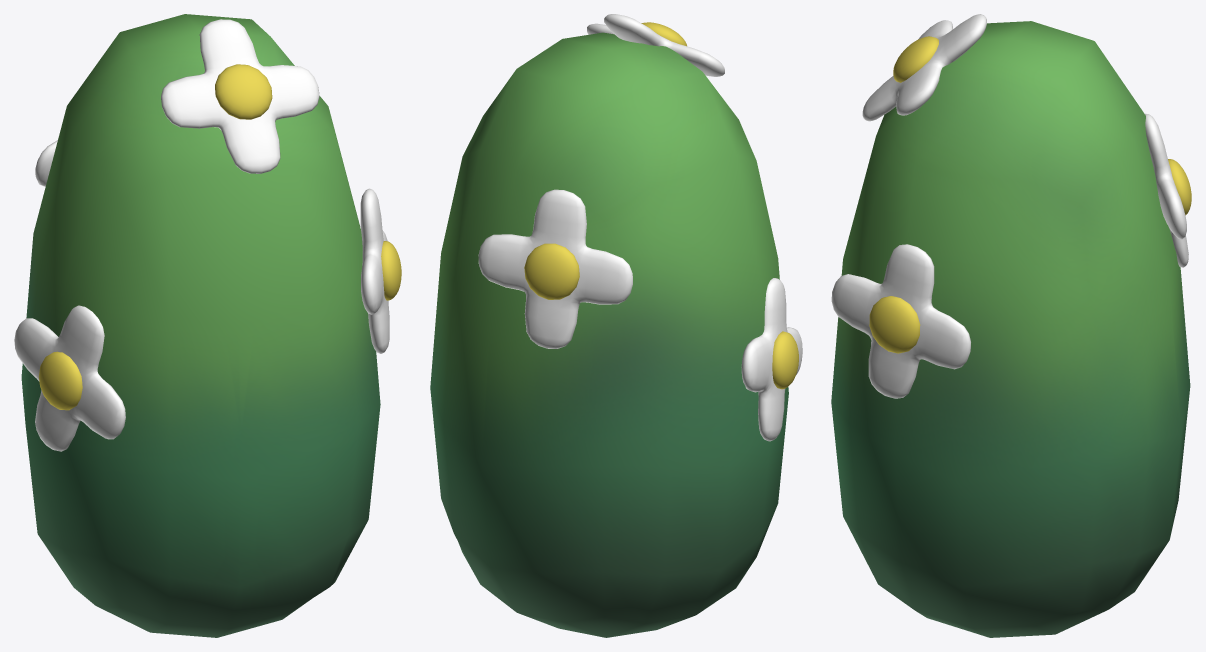
Rendered from bush2.fbx.
3 views of the same model, side by side, from view 1: azimuth 30°, elevation 25°; view 2: azimuth 150°, elevation 25°; view 3: azimuth 270°, elevation 25° (orthographic). The views are drawn at different scales.
Parts seen in each view (by area): view 1: bush2.017; view 2: bush2.017; view 3: bush2.017.
Part boxes in pixels (x1,y1,x2,y2): bush2.017: (14,14,401,637); bush2.017: (430,14,802,637); bush2.017: (831,14,1191,637).
Bounding box in the file's own units: 53.77 × 93.72 × 50.69.
3 materials, 1 textured.
